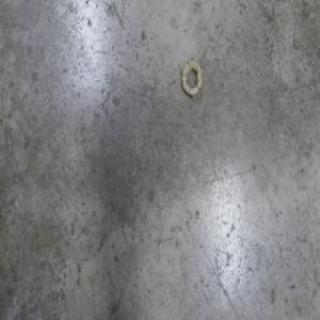Nuttrack_idkeyframe: (180, 56, 202, 98)
